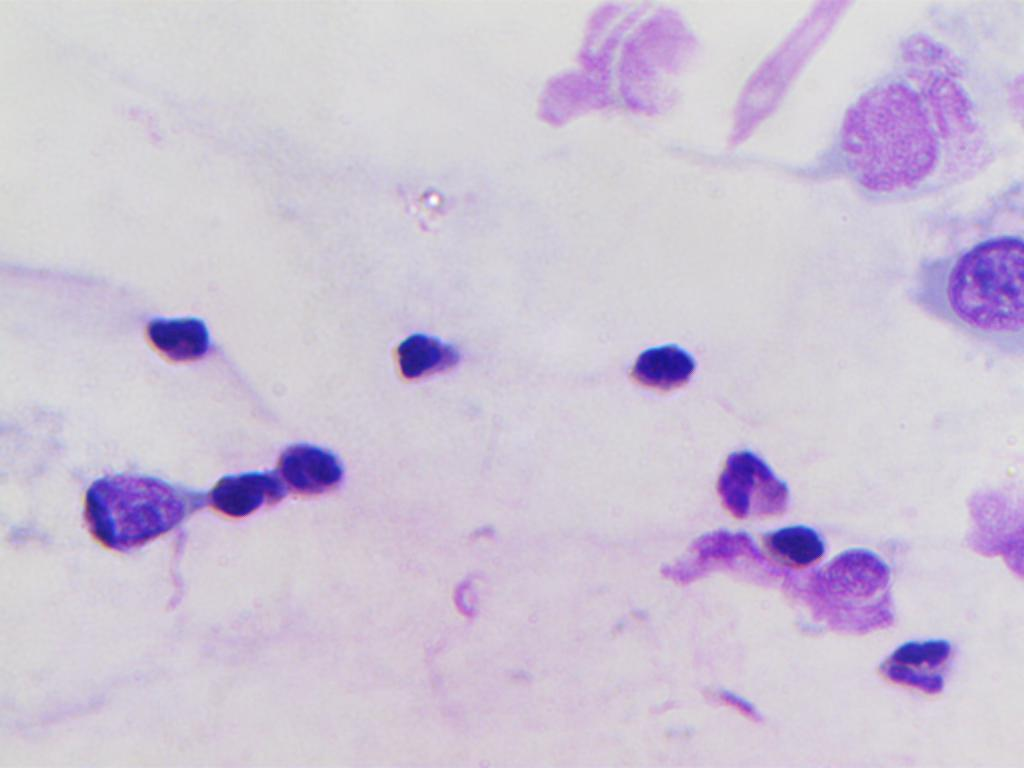artifact: (826, 23, 983, 209), (714, 0, 857, 164), (528, 9, 704, 141)
epithelial: (886, 199, 1023, 388)
neutrophil: (64, 458, 198, 571), (118, 295, 235, 373), (361, 319, 478, 397), (597, 326, 714, 404), (690, 440, 807, 518), (807, 538, 916, 616), (860, 634, 969, 710), (206, 451, 287, 527), (269, 434, 348, 506), (753, 524, 839, 576)
